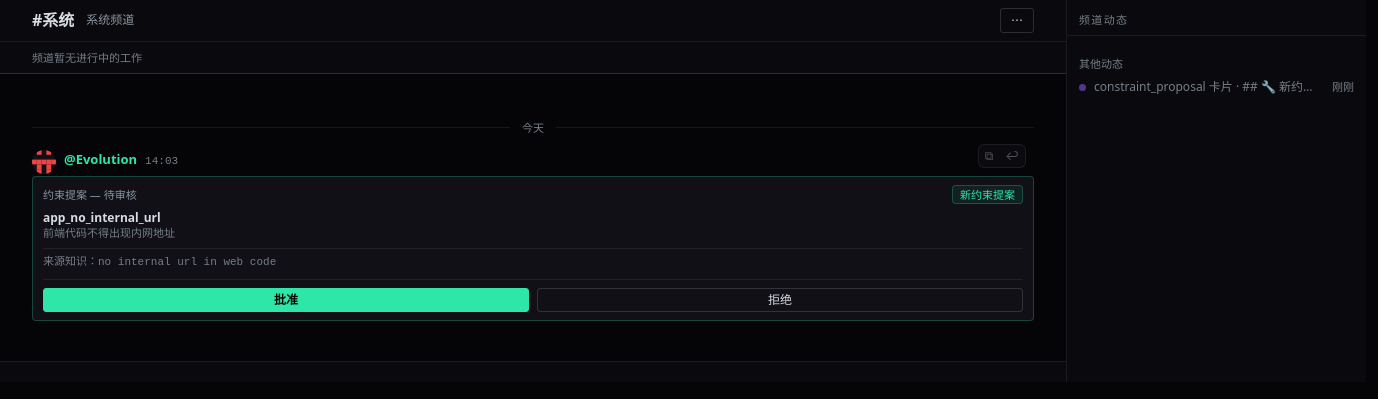
Test case: ChannelDetailPage — constraint_proposal 审核分发 › reject → POST /review-proposals/constraint/:proposalId/reject，卡片显示已拒绝
Click the button "拒绝". click: click(780, 300)
box: [537, 288, 1023, 312]
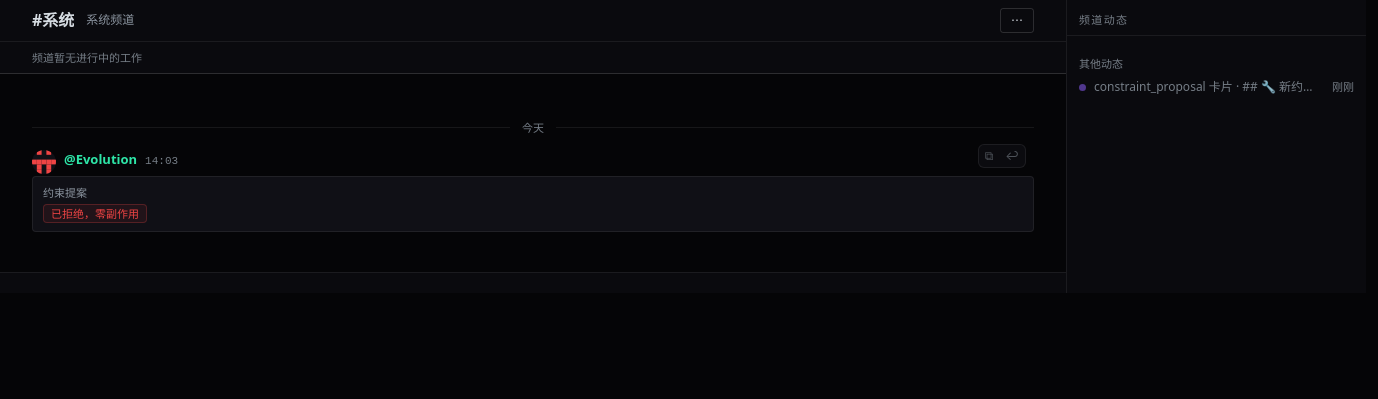
Expected: the text "已拒绝，零副作用" is shown, [43, 204, 147, 223]
